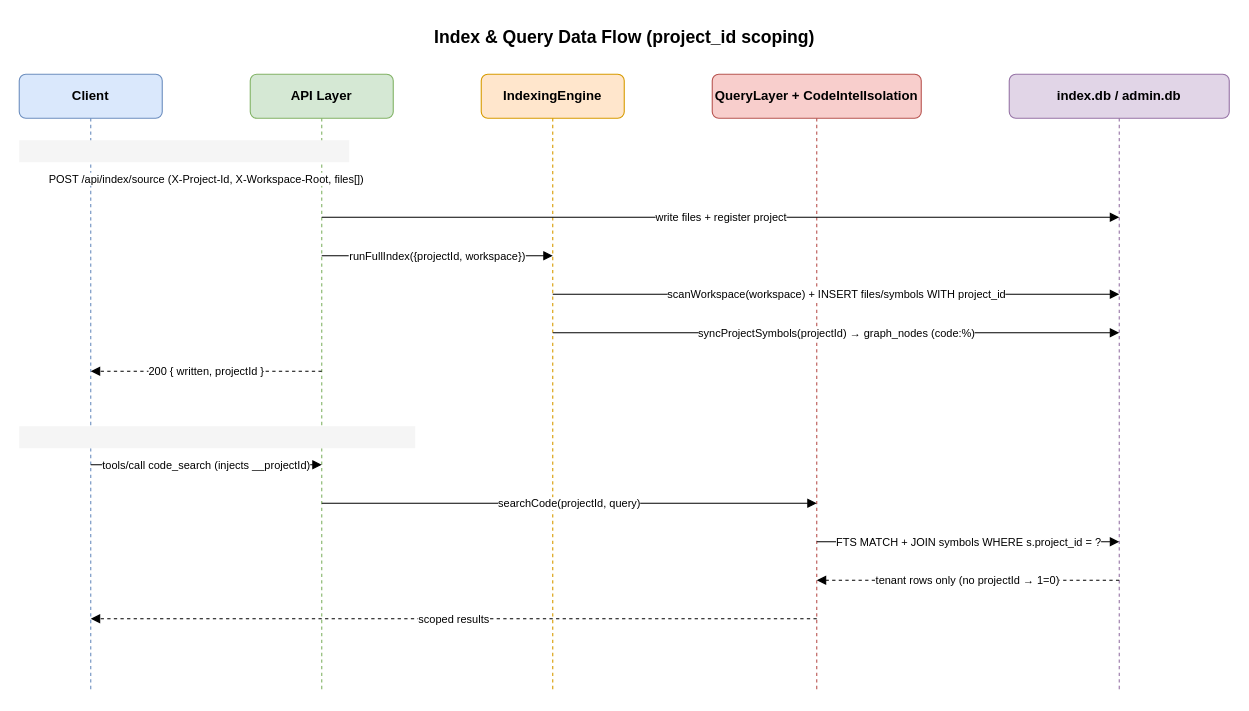
This 1249x711 diagram has some shape labels left out. The box of each missing label's shape, as (x1, y1, x2, y2) in pixels:
INDEXING FLOW: (19, 140, 349, 162)
QUERY FLOW (code_search / codeCount): (19, 426, 415, 448)
